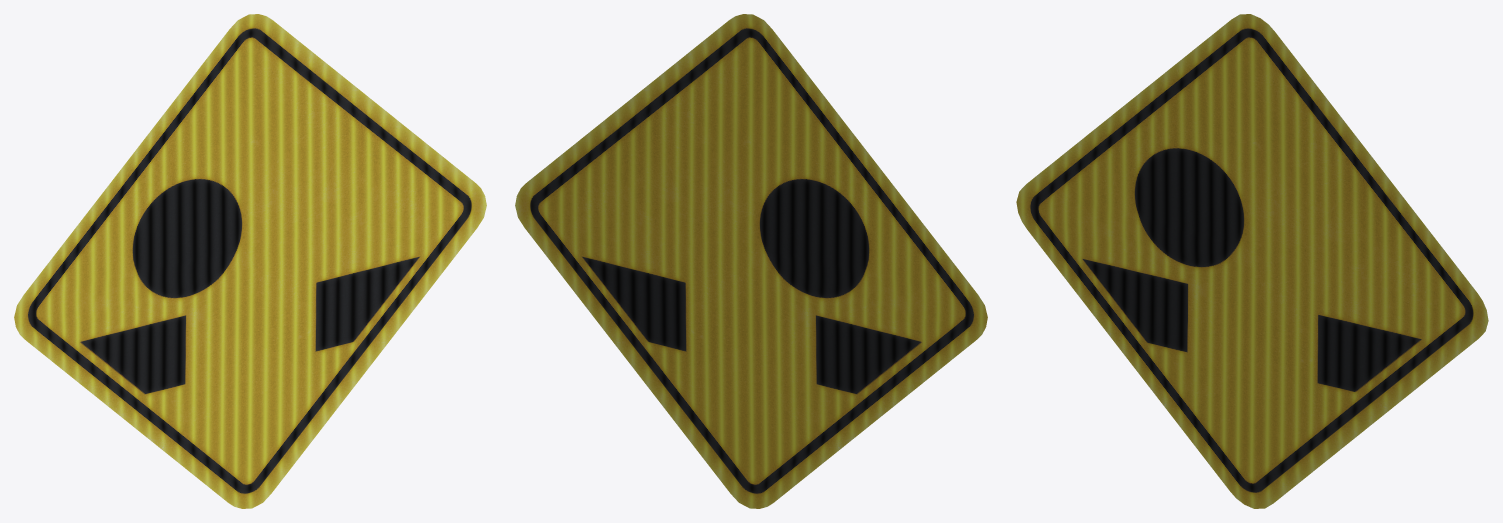
The model's file is RoadSign03DropOff.fbx.
The picture shows the model from 3 angles, left to right: view 1: azimuth 30°, elevation 25°; view 2: azimuth 150°, elevation 25°; view 3: azimuth 330°, elevation 25°; orthographic projection.
Visible parts, largest first — view 1: Polygonal_Geometry; view 2: Polygonal_Geometry; view 3: Polygonal_Geometry.
Boxes of the visible parts, <box> form: Polygonal_Geometry: <box>14,14,486,508</box>; Polygonal_Geometry: <box>515,14,987,508</box>; Polygonal_Geometry: <box>1016,14,1488,508</box>.
Bounding box in the file's own units: 4.5 × 4.5 × 0.
